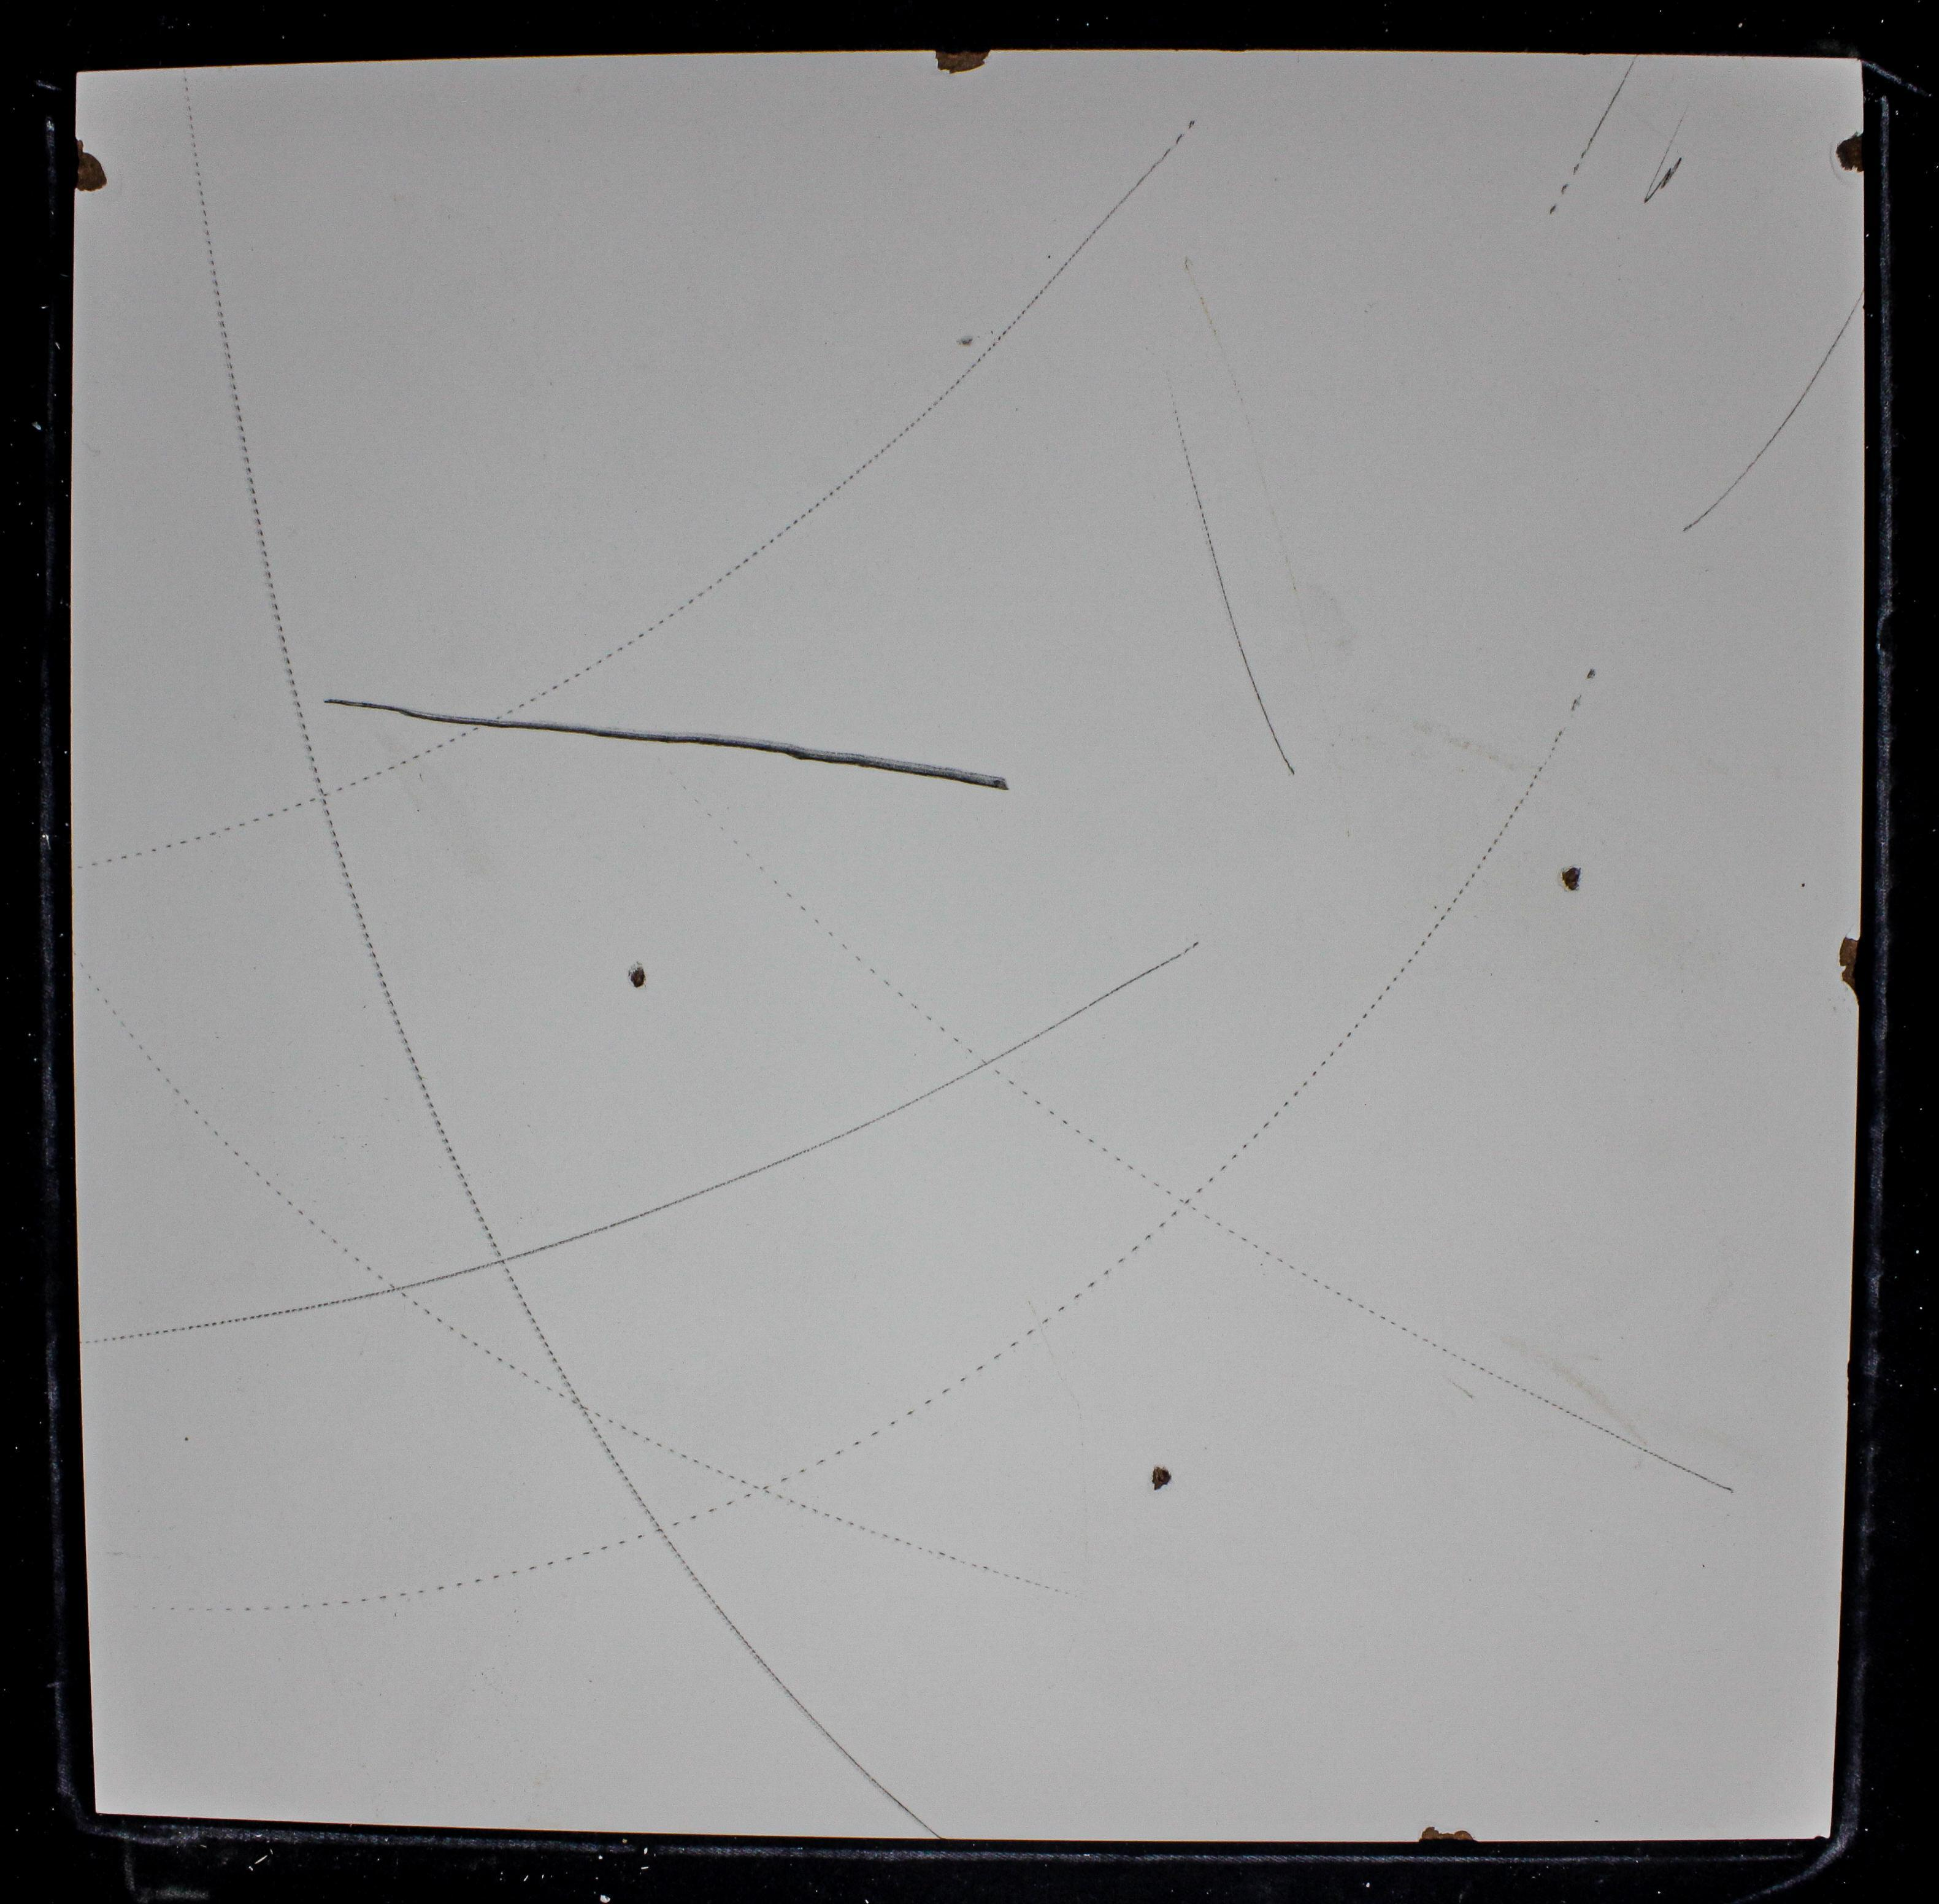edge-chipping: (71, 136, 108, 194), (933, 47, 990, 75), (1838, 936, 1859, 1006), (1834, 131, 1864, 174), (1418, 1826, 1477, 1841)
hole: (1559, 867, 1583, 893), (1151, 1463, 1172, 1487), (629, 966, 647, 989)
line: (574, 354, 985, 673), (502, 1065, 982, 1264), (326, 689, 1017, 795), (990, 101, 1207, 352), (364, 933, 497, 1259), (1182, 443, 1297, 774), (232, 382, 323, 797), (1677, 312, 1847, 534), (1402, 765, 1545, 969), (989, 942, 1200, 1064), (783, 1684, 943, 1834), (1540, 1395, 1737, 1498), (664, 1536, 778, 1681), (185, 82, 235, 378), (1543, 66, 1639, 218), (133, 1289, 391, 1339), (328, 804, 368, 928), (602, 1444, 661, 1527), (502, 1268, 554, 1362), (1630, 148, 1688, 213), (403, 1262, 499, 1292)
